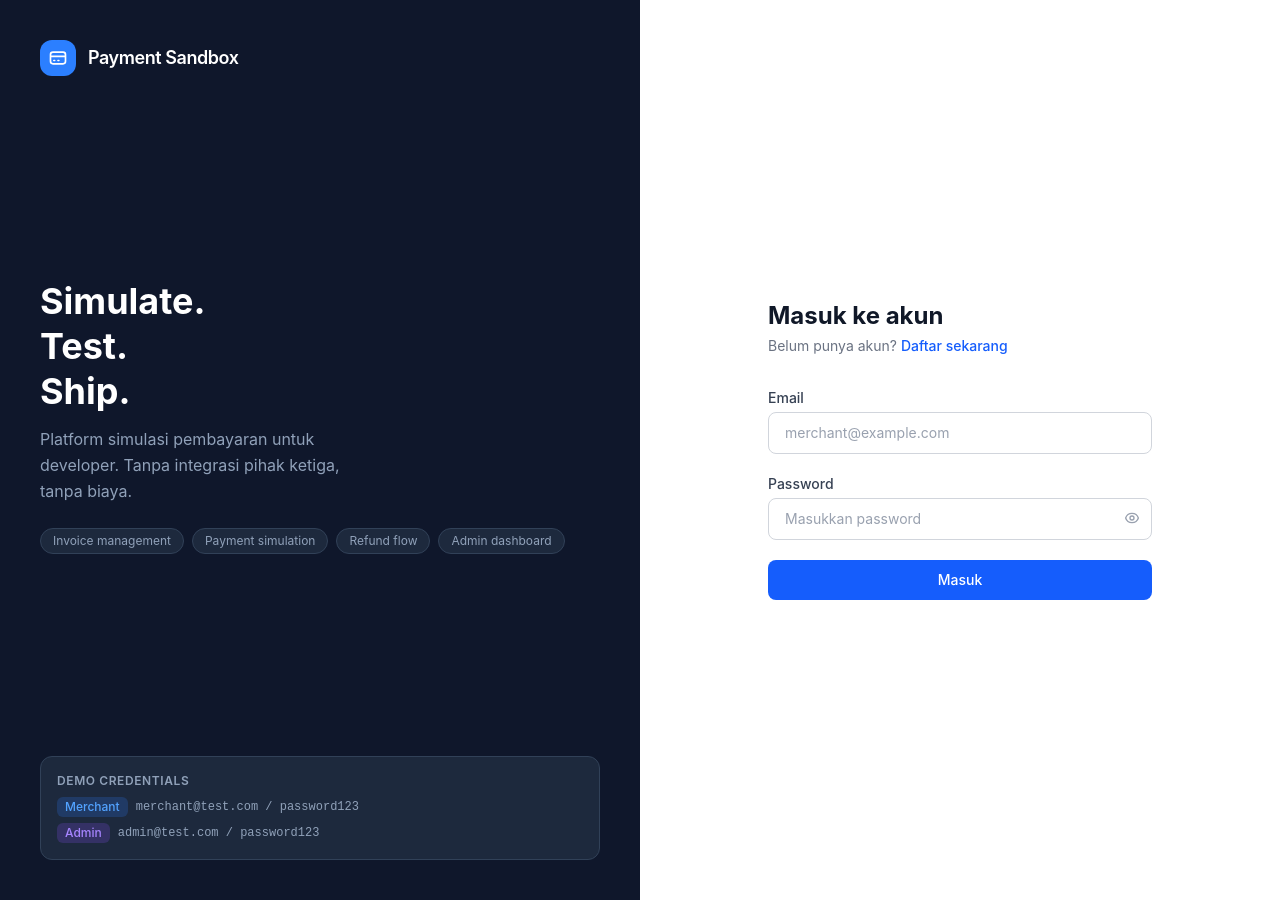
Scenario: LoginPage › shows validation errors when submitted empty
Click the button "Masuk" at x=960, y=580, box [768, 560, 1152, 600]
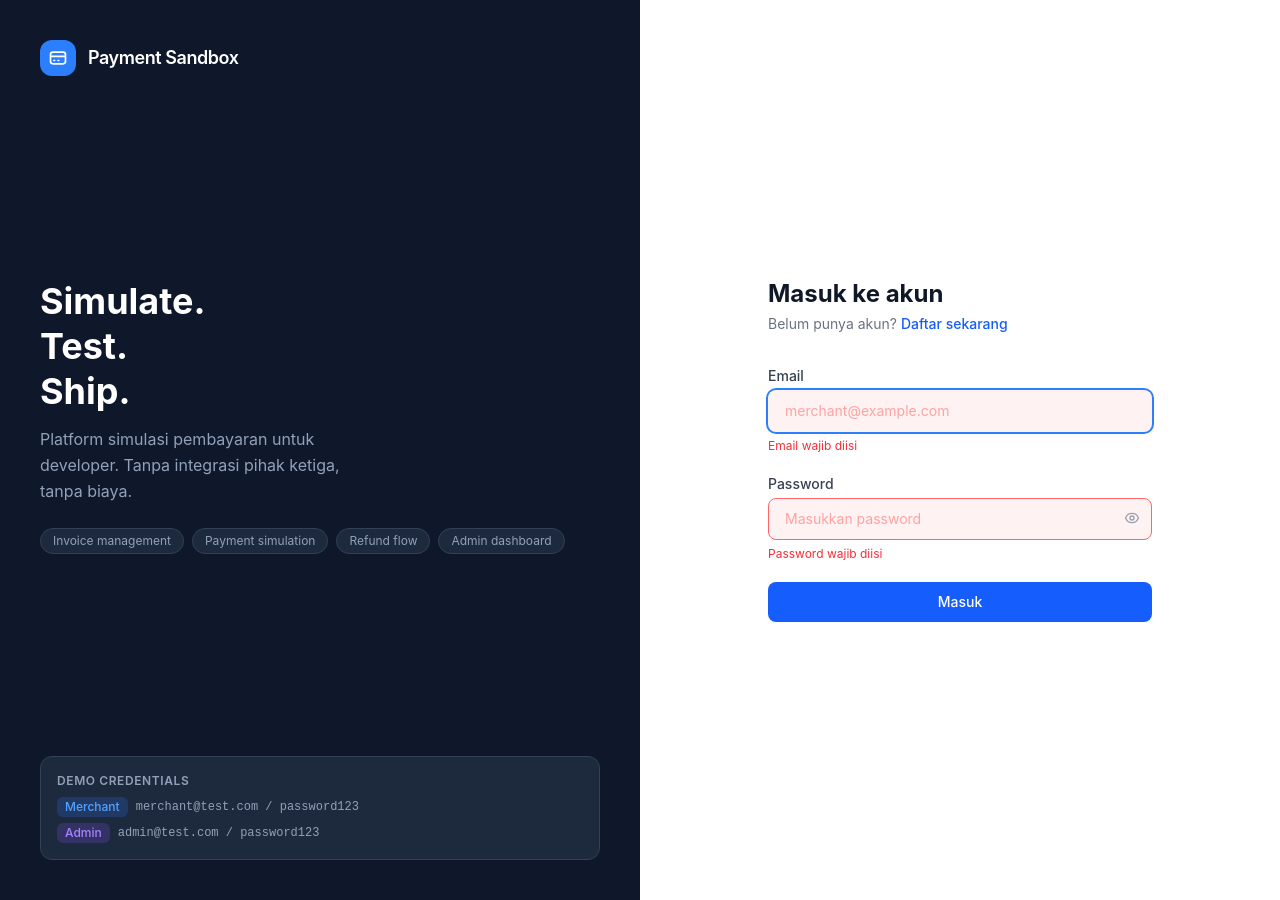
expect the text "Email wajib diisi" is shown: met, box [768, 438, 857, 453]
expect the text "Password wajib diisi" is shown: met, box [768, 546, 882, 561]
